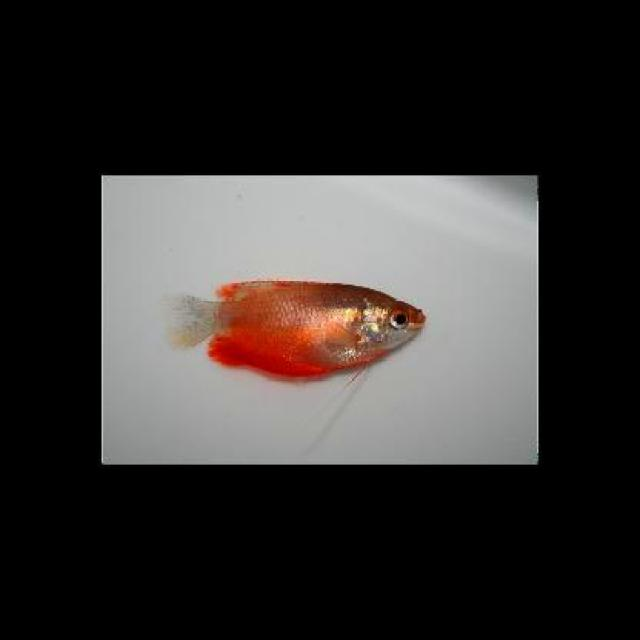Gourami: (157, 276, 426, 379)
